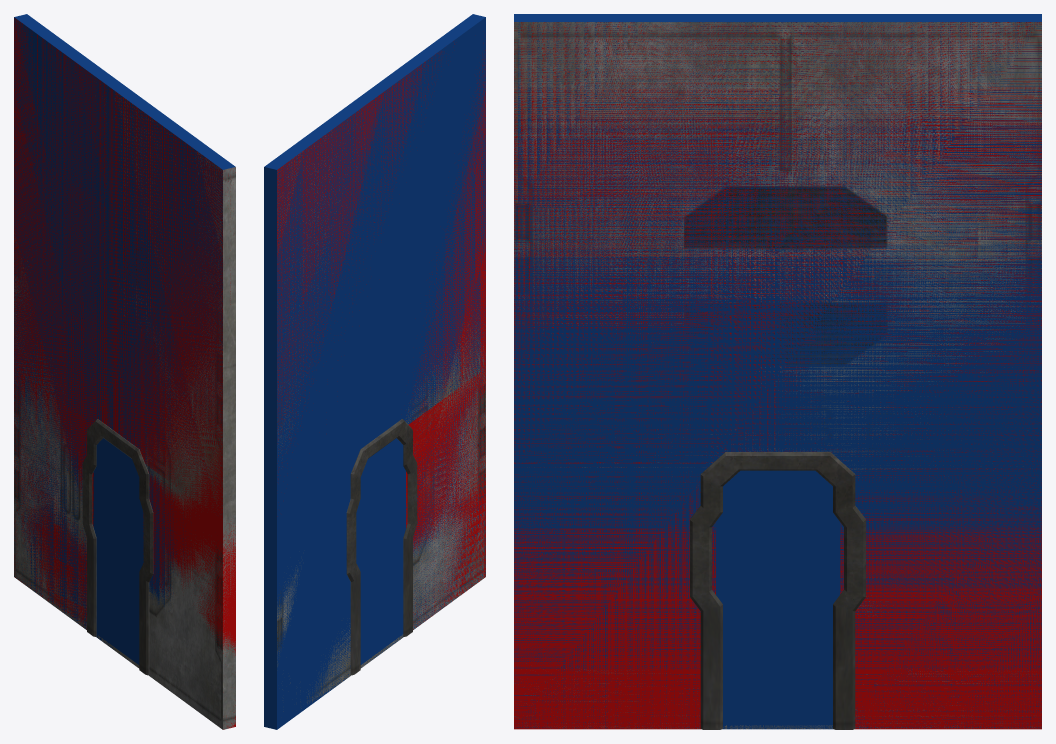
The model's file is SciFi_wall_door.DAE.
The picture shows the model from 3 angles, left to right: view 1: azimuth 30°, elevation 25°; view 2: azimuth 150°, elevation 25°; view 3: azimuth 270°, elevation 25°; orthographic projection. The views are drawn at different scales.
Parts seen in each view (by area): view 1: bounds, colbox-01, LP_wall_door, colbox-02, colbox-03, LP_door_frame; view 2: bounds, colbox-01, LP_wall_door, colbox-03, LP_door_frame; view 3: bounds, LP_wall_door, colbox-01, colbox-02, colbox-03, LP_door_frame.
Boxes of the visible parts, x1,y1,x2,y2 form: bounds: [14, 14, 235, 664]; colbox-01: [14, 18, 235, 520]; LP_wall_door: [14, 94, 235, 729]; colbox-02: [14, 368, 93, 628]; colbox-03: [143, 471, 235, 729]; LP_door_frame: [82, 419, 153, 675]; bounds: [264, 14, 485, 729]; colbox-01: [277, 41, 485, 516]; LP_wall_door: [277, 136, 485, 711]; colbox-03: [406, 368, 485, 629]; LP_door_frame: [346, 419, 417, 675]; bounds: [514, 14, 1041, 729]; LP_wall_door: [514, 22, 1041, 729]; colbox-01: [514, 22, 1041, 465]; colbox-02: [840, 465, 1041, 729]; colbox-03: [514, 466, 715, 729]; LP_door_frame: [690, 452, 865, 729].
Bounding box in the file's own units: 32.17 × 676 × 1000.
